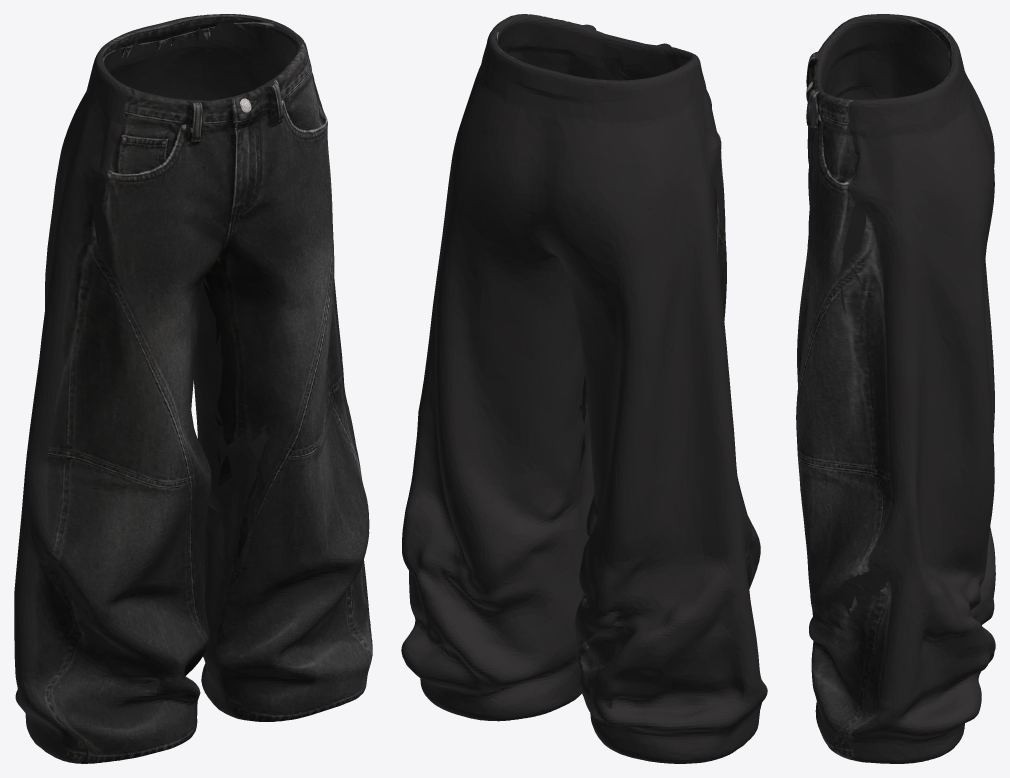
The model's file is shadow-kargo-qora.glb.
3 views of the same model, side by side, from view 1: azimuth 30°, elevation 25°; view 2: azimuth 150°, elevation 25°; view 3: azimuth 270°, elevation 25° (orthographic). The views are drawn at different scales.
Parts seen in each view (by area): view 1: world; view 2: world; view 3: world.
Part boxes in pixels (x1,y1,x2,y2): world: [14, 14, 372, 763]; world: [401, 14, 767, 763]; world: [796, 14, 995, 763].
Size of the model in its own units: 1.06 by 1.96 by 0.5548.
1 material, 1 textured.
